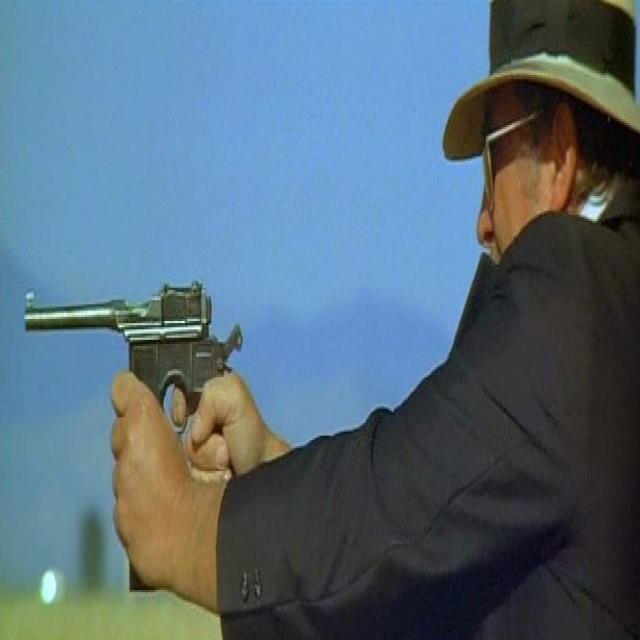gun-knife-thesis - v11 Yolov5 augmented: (14, 236, 246, 608)
